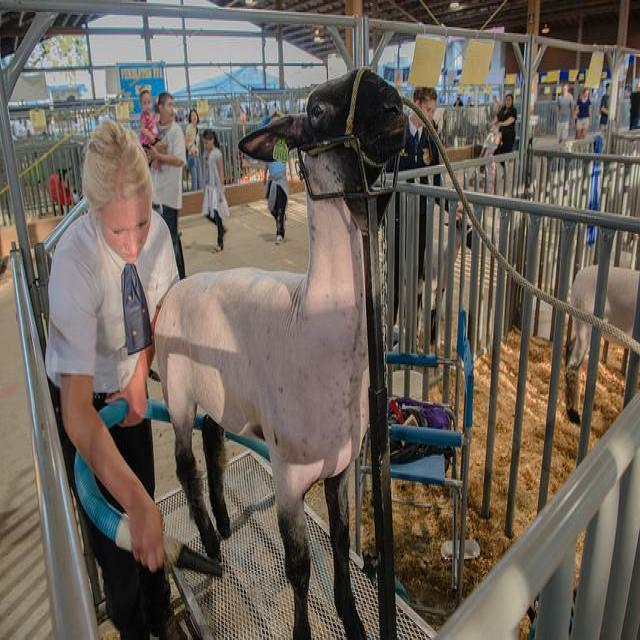Sheep: (155, 69, 409, 638)
